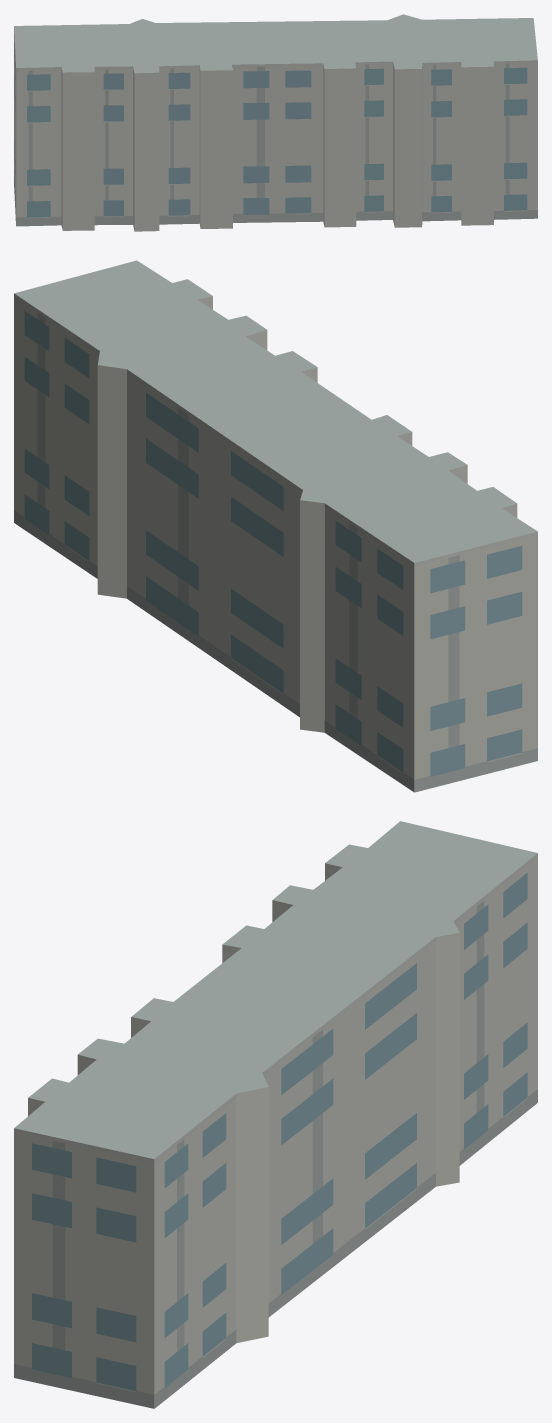
File: survey-upis-32850918.glb
The picture shows the model from 3 angles, top to bottom: view 1: azimuth 30°, elevation 25°; view 2: azimuth 150°, elevation 25°; view 3: azimuth 270°, elevation 25°; orthographic projection. The views are drawn at different scales.
Parts seen in each view (by area): view 1: survey-upis-32850918.tmp; view 2: survey-upis-32850918.tmp; view 3: survey-upis-32850918.tmp.
Part boxes in pixels (box(x1,y1,x2,y2)): survey-upis-32850918.tmp: box(14, 14, 537, 231); survey-upis-32850918.tmp: box(14, 260, 537, 792); survey-upis-32850918.tmp: box(14, 821, 537, 1408).
Bounding box in the file's own units: 44.3 × 15.25 × 29.01.
